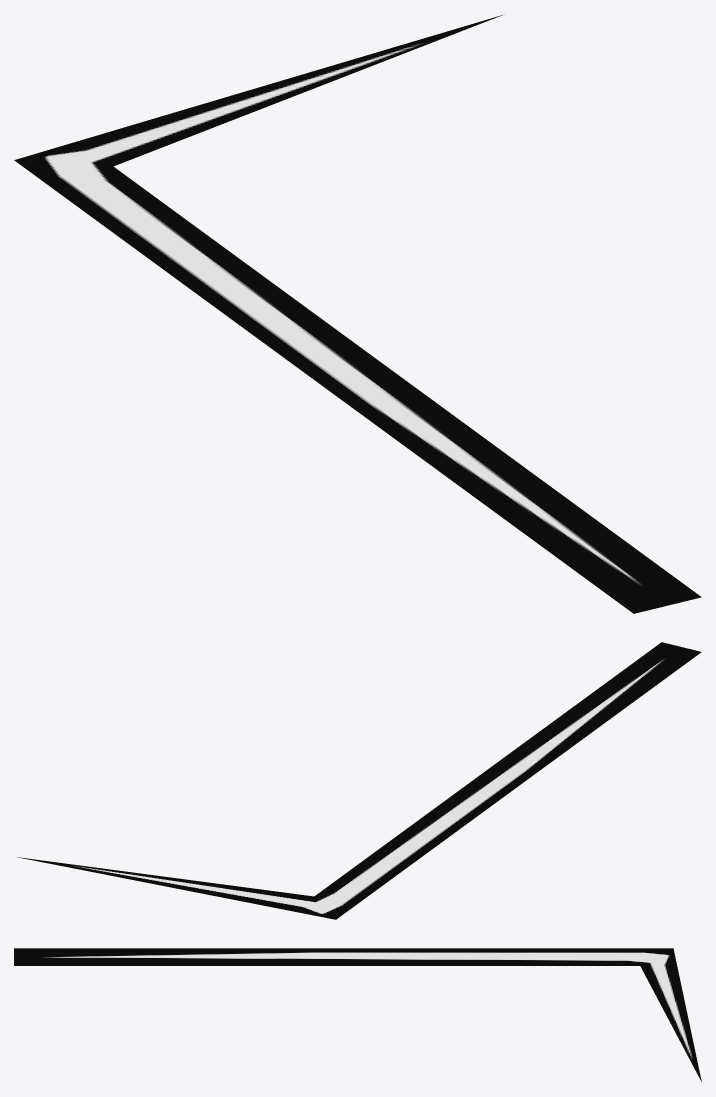
The model's file is SM_line_Angle_1.fbx.
The picture shows the model from 3 angles, top to bottom: view 1: azimuth 30°, elevation 25°; view 2: azimuth 150°, elevation 25°; view 3: azimuth 270°, elevation 25°; orthographic projection. The views are drawn at different scales.
Visible parts, largest first — view 1: SM_line_Angle_1; view 2: SM_line_Angle_1; view 3: SM_line_Angle_1.
Part boxes in pixels (<box>): SM_line_Angle_1: <box>14,15,701,613</box>; SM_line_Angle_1: <box>16,642,701,919</box>; SM_line_Angle_1: <box>14,948,701,1081</box>.
Size of the model in its own units: 53.01 by 0 by 114.
